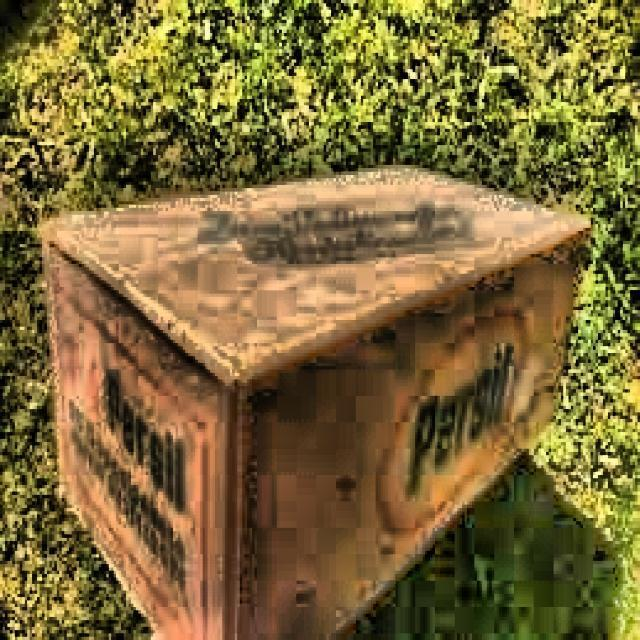cardboard: (37, 158, 593, 637)
